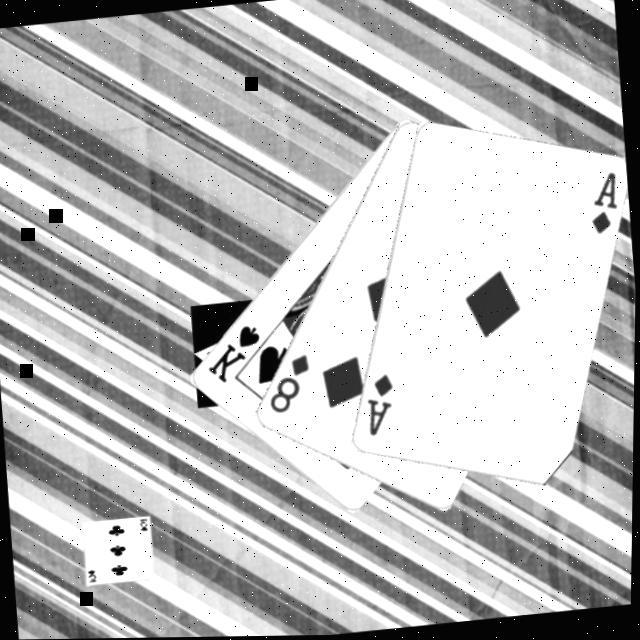8D: (260, 351, 314, 419)
AD: (358, 372, 398, 441), (582, 172, 622, 241)
KS: (199, 322, 266, 388)
